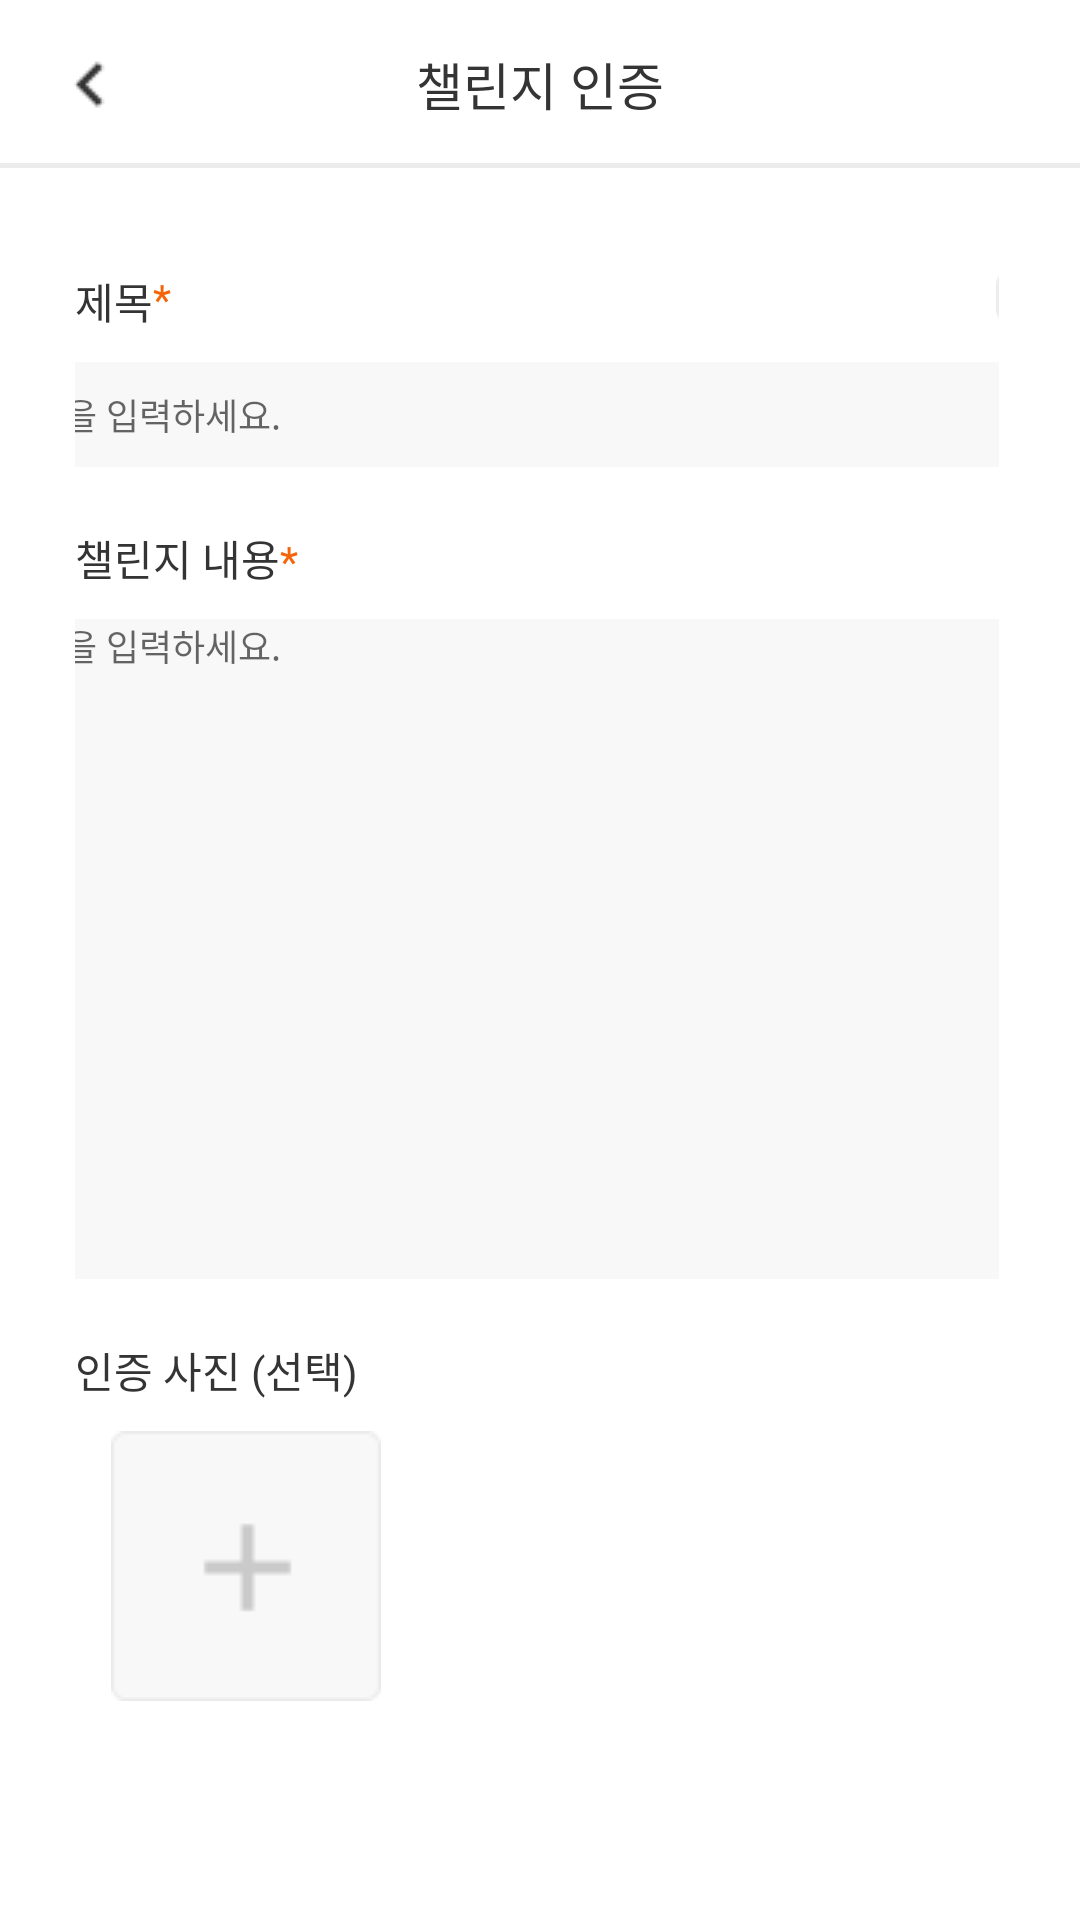

Point at icon controls on the screen. Image size 1080x1920, points as (x,y).
add picture: (247,1567)
back: (89,84)
